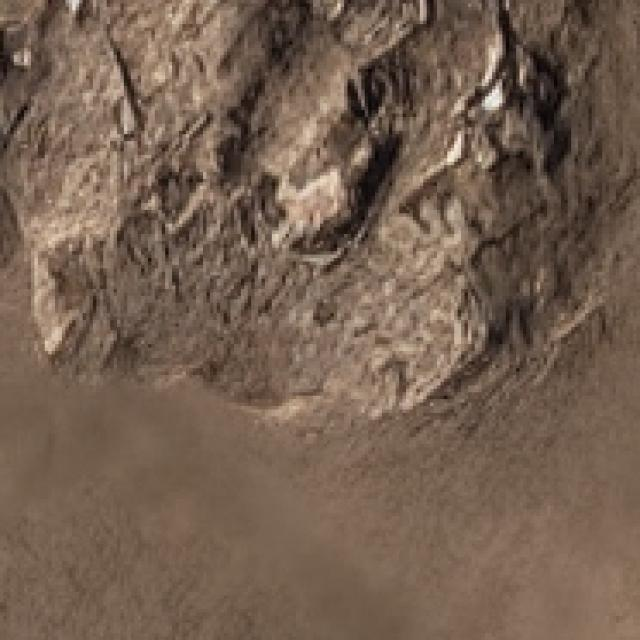Crater: (619, 0, 640, 482), (0, 636, 316, 640)
